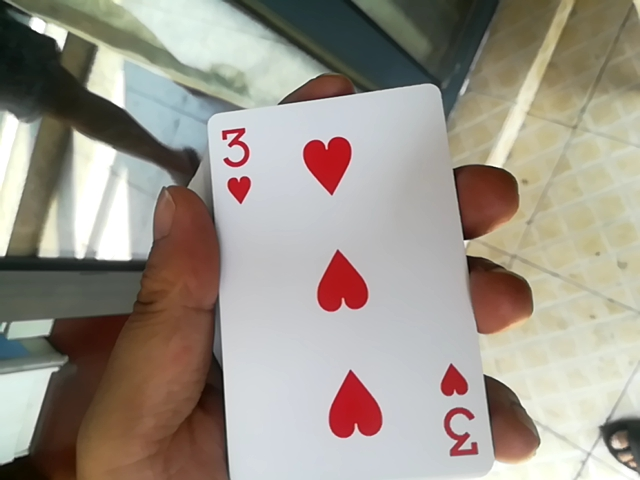hx 3: (191, 82, 474, 473)
